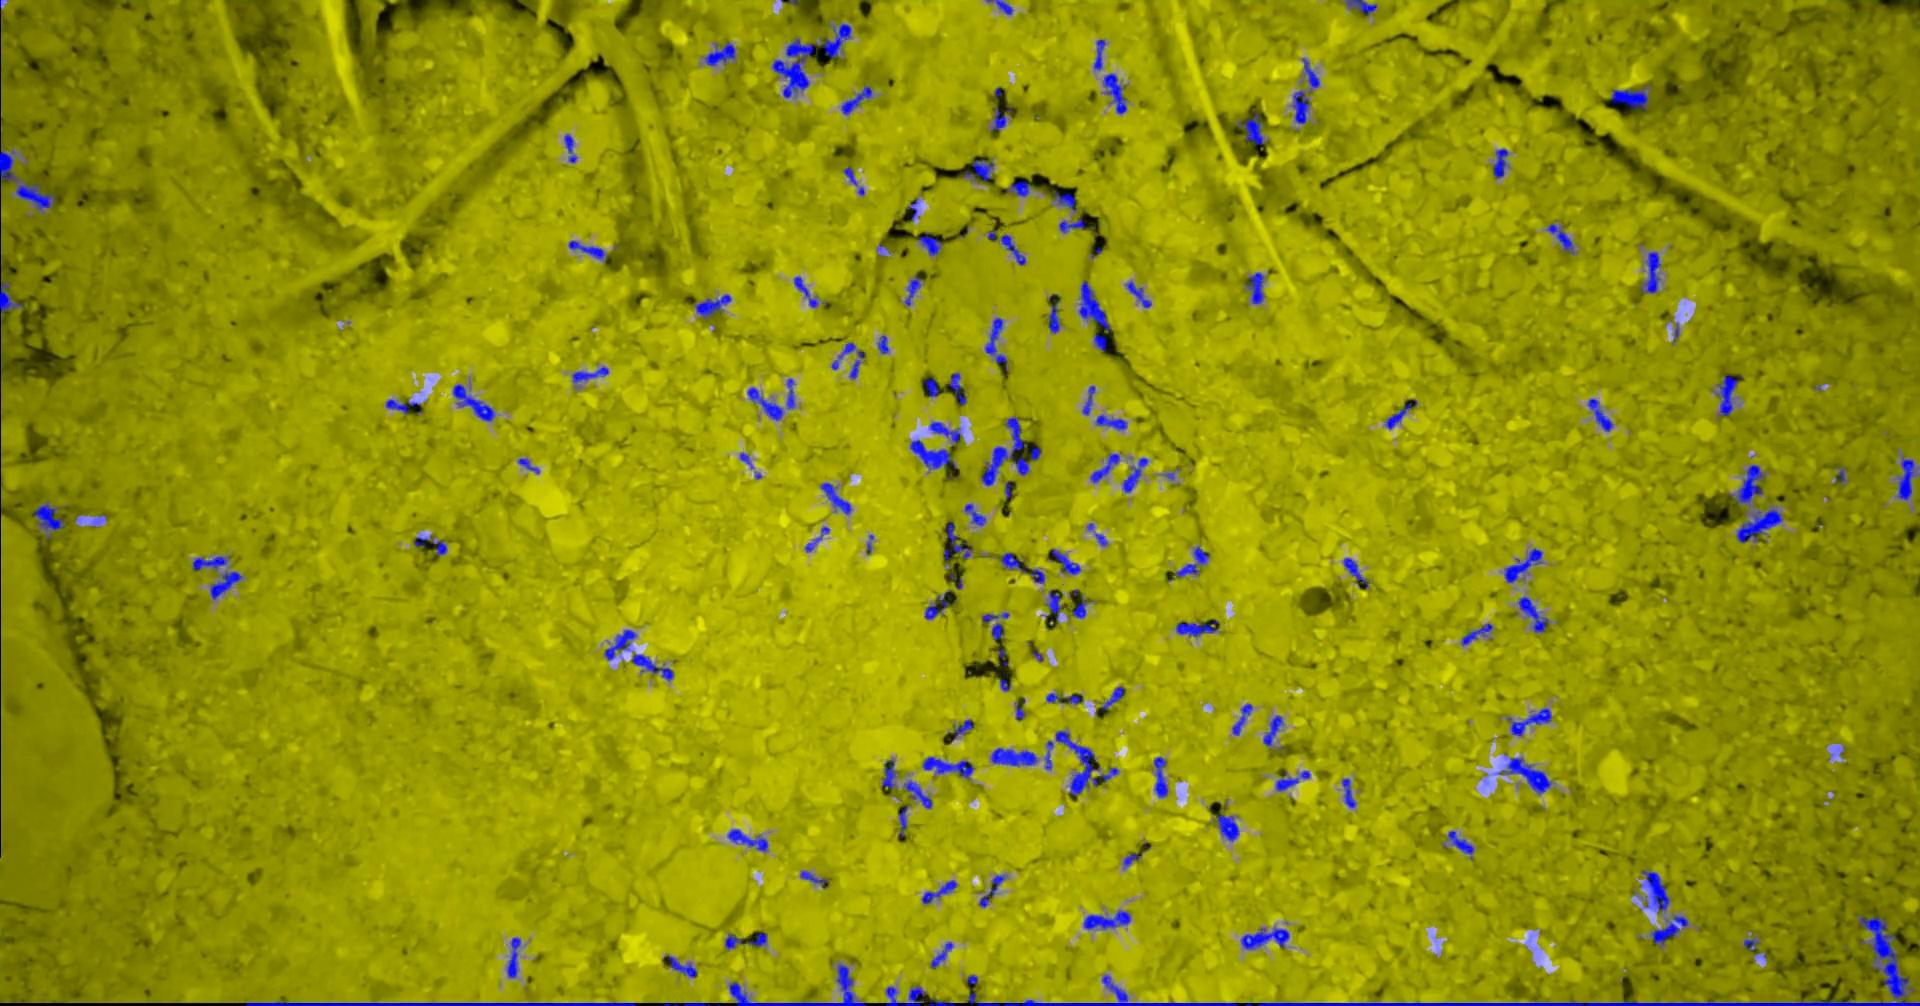ant: (728, 964, 866, 1005), (0, 132, 55, 210), (1055, 730, 1119, 795), (982, 417, 1030, 485), (244, 1000, 636, 1005), (1498, 757, 1550, 794), (1078, 279, 1111, 332), (1736, 506, 1782, 542), (452, 384, 494, 420), (0, 255, 22, 326), (1727, 464, 1764, 503), (909, 439, 957, 469), (1001, 553, 1044, 583), (1503, 547, 1542, 582), (830, 342, 865, 379), (984, 318, 1007, 371), (1507, 708, 1550, 735), (747, 387, 782, 420), (1641, 870, 1669, 912), (922, 756, 973, 779), (1650, 915, 1688, 945), (1517, 596, 1548, 633), (631, 653, 673, 680), (943, 521, 971, 560), (33, 503, 63, 539), (792, 276, 825, 307), (1175, 546, 1209, 577), (1716, 375, 1741, 415), (1102, 72, 1126, 114), (604, 629, 636, 661), (820, 481, 851, 514), (1239, 929, 1289, 949), (1384, 399, 1416, 429), (1897, 456, 1919, 500), (695, 293, 731, 319), (1236, 112, 1263, 145), (210, 572, 243, 600), (978, 873, 1004, 907), (728, 828, 767, 851), (1083, 909, 1130, 929), (841, 85, 871, 114), (1610, 86, 1648, 109), (568, 240, 606, 263), (1123, 457, 1148, 492), (1545, 224, 1575, 253), (921, 880, 957, 903), (884, 984, 924, 1005), (1090, 453, 1119, 481), (990, 747, 1036, 765), (1587, 398, 1611, 431), (903, 780, 931, 808), (1641, 251, 1660, 292), (930, 420, 960, 446), (1343, 558, 1369, 588), (1175, 619, 1218, 636), (1275, 770, 1310, 791), (703, 41, 735, 65), (1051, 547, 1079, 574), (1448, 829, 1473, 859), (1001, 234, 1025, 264), (1230, 702, 1252, 735), (663, 955, 696, 977), (924, 589, 949, 619), (1462, 622, 1492, 645), (1125, 281, 1150, 307), (963, 159, 993, 180), (804, 526, 829, 551), (1244, 271, 1263, 304), (413, 536, 446, 555), (1262, 715, 1283, 746), (1302, 57, 1319, 91), (571, 366, 608, 382), (1217, 813, 1238, 841), (190, 555, 230, 570), (505, 937, 521, 977), (1291, 90, 1309, 123), (916, 232, 941, 255), (1098, 686, 1124, 709), (930, 941, 952, 967), (1153, 756, 1167, 796), (949, 372, 966, 404), (1051, 191, 1076, 212), (1343, 0, 1377, 15), (1095, 414, 1128, 429), (947, 719, 971, 739), (1046, 589, 1062, 621), (385, 399, 419, 413), (964, 503, 985, 525), (799, 870, 827, 887), (1492, 149, 1507, 178), (904, 276, 919, 305), (881, 760, 897, 788), (563, 133, 577, 163), (1058, 217, 1084, 232), (1341, 779, 1355, 807), (1082, 385, 1095, 415), (1048, 300, 1059, 333), (985, 0, 1012, 14), (1070, 594, 1086, 619), (990, 104, 1004, 130), (1093, 39, 1105, 70), (1006, 180, 1029, 196), (897, 805, 907, 837), (517, 459, 538, 473), (982, 612, 1008, 622), (843, 166, 857, 185), (924, 377, 938, 396), (1123, 852, 1139, 868), (1743, 937, 1759, 954), (1044, 741, 1053, 768), (748, 932, 766, 946), (724, 934, 742, 948), (996, 647, 1008, 666), (1093, 333, 1106, 351), (786, 379, 794, 408), (876, 335, 888, 353), (990, 622, 1002, 640), (1015, 699, 1023, 720), (928, 998, 955, 1005), (1045, 692, 1062, 702), (1067, 694, 1082, 704), (1030, 446, 1040, 460), (1835, 467, 1845, 481), (662, 1002, 710, 1005)
